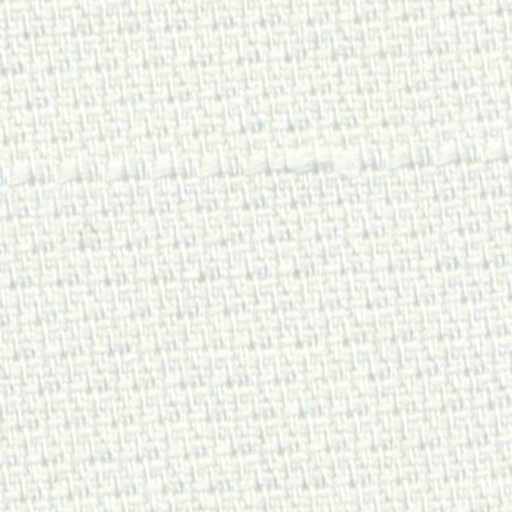TuoSha: (12, 115, 497, 194)
